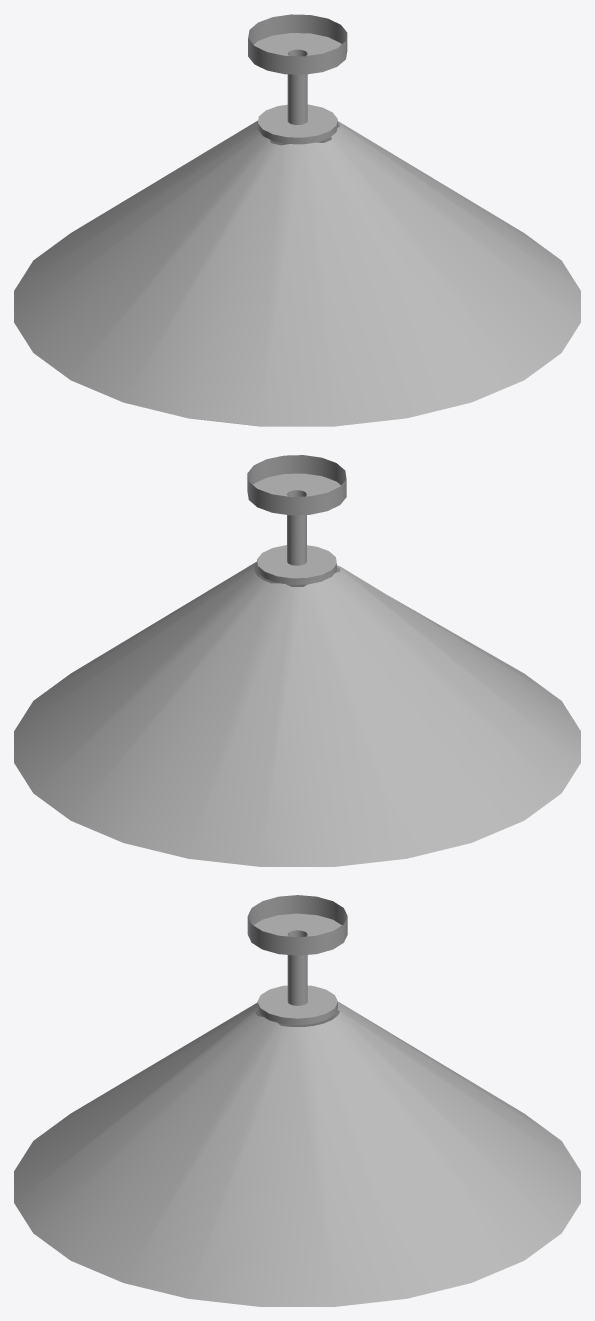
Rendered from lampara1.obj.
The picture shows the model from 3 angles, top to bottom: view 1: azimuth 30°, elevation 25°; view 2: azimuth 150°, elevation 25°; view 3: azimuth 270°, elevation 25°; orthographic projection.
Parts seen in each view (by area): view 1: Octagonal_concrete_lamp.001; view 2: Octagonal_concrete_lamp.001; view 3: Octagonal_concrete_lamp.001.
Part boxes in pixels (x1,y1,x2,y2): Octagonal_concrete_lamp.001: [14, 14, 580, 426]; Octagonal_concrete_lamp.001: [14, 455, 580, 866]; Octagonal_concrete_lamp.001: [14, 895, 580, 1306].
Bounding box in the file's own units: 0.3048 × 0.1609 × 0.3048.
Materials: 3 (3 with a texture image).
